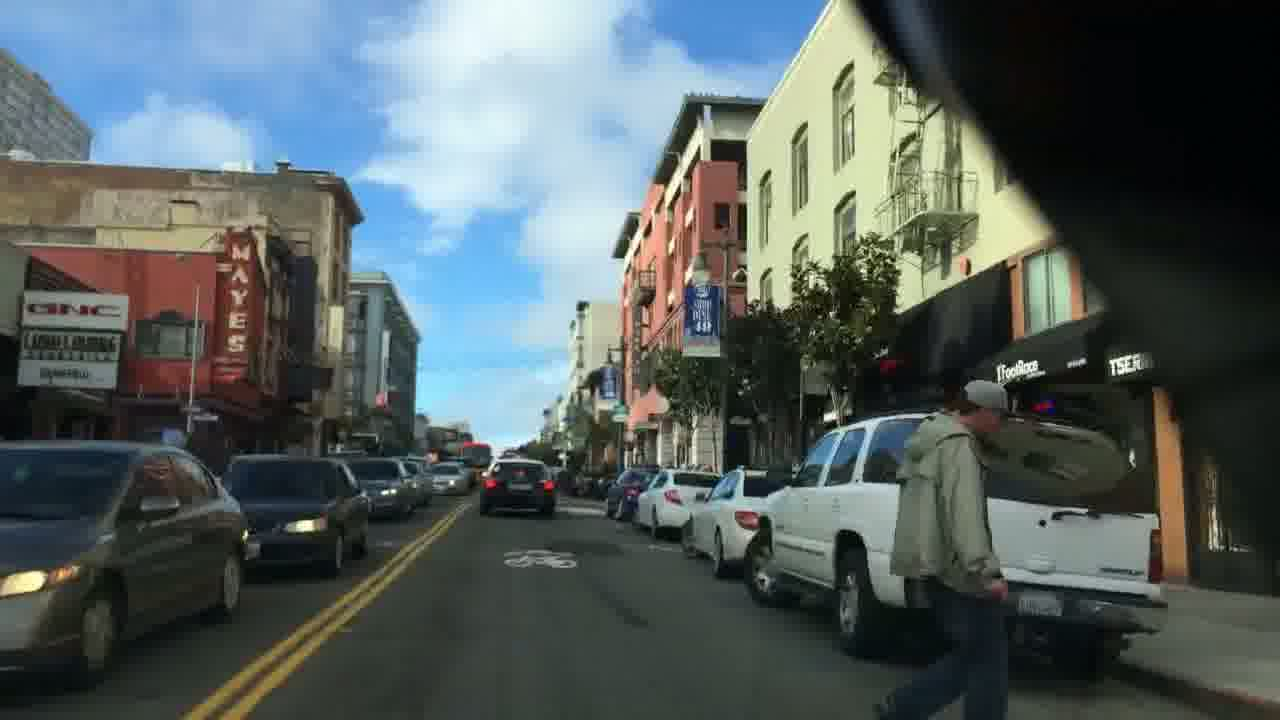car: (743, 404, 1170, 681), (0, 437, 250, 687), (221, 454, 369, 576), (678, 463, 797, 580), (630, 467, 721, 540), (477, 456, 558, 516), (346, 456, 416, 520), (426, 460, 470, 495)
pedestrian: (870, 378, 1019, 720)
